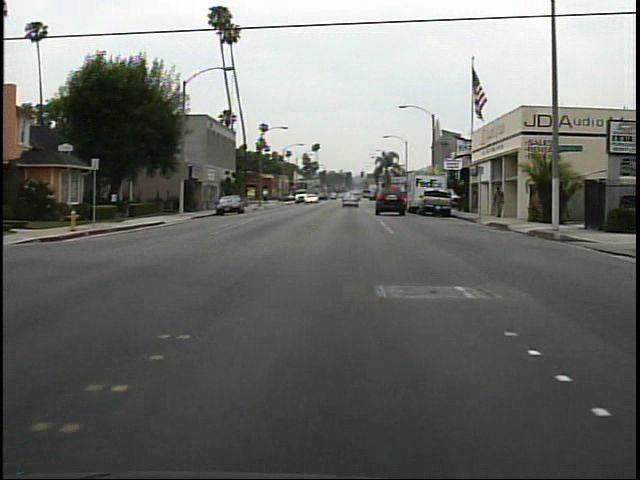person: (489, 185, 509, 222)
